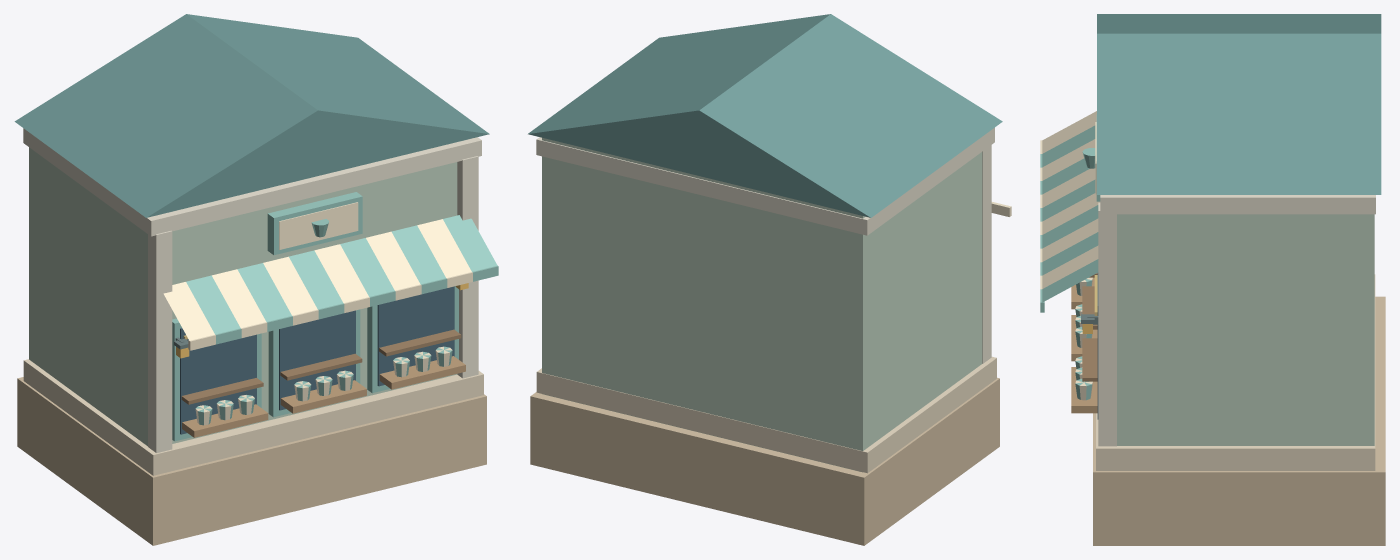
The model's file is Pottery.glb.
3 renders of one model, left to right at view 1: azimuth 30°, elevation 25°; view 2: azimuth 150°, elevation 25°; view 3: azimuth 270°, elevation 25°, orthographic. The views are drawn at different scales.
Parts seen in each view (by area): view 1: Pottery; view 2: Pottery; view 3: Pottery.
Part boxes in pixels (bbox=[...]): Pottery: bbox=[14, 14, 498, 545]; Pottery: bbox=[528, 14, 1011, 545]; Pottery: bbox=[1040, 14, 1385, 545].
Size of the model in its own units: 6.96 by 7.61 by 5.62.
